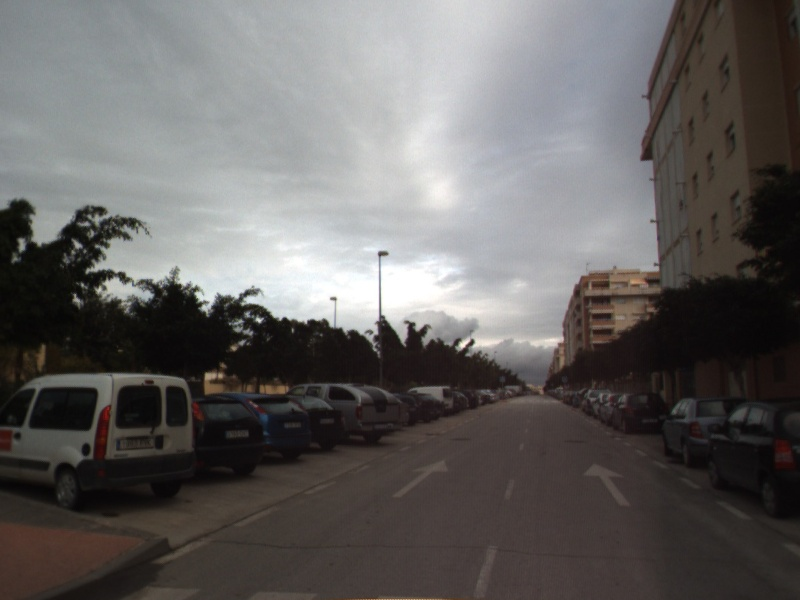STRAIGHT: (581, 460, 633, 508), (390, 458, 450, 499)
